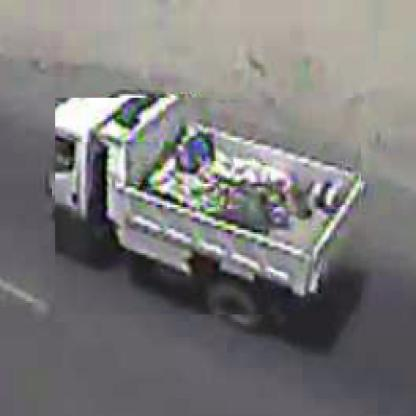truck: (56, 99, 364, 317)
